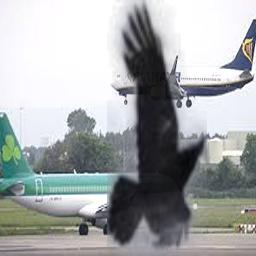Crow: (107, 0, 207, 256)
